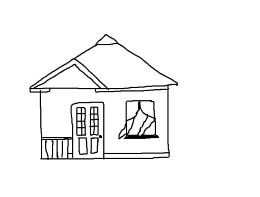door: (68, 98, 107, 163)
open_window: (122, 96, 161, 142)
roof: (22, 31, 178, 95)
wall: (36, 84, 174, 163)
